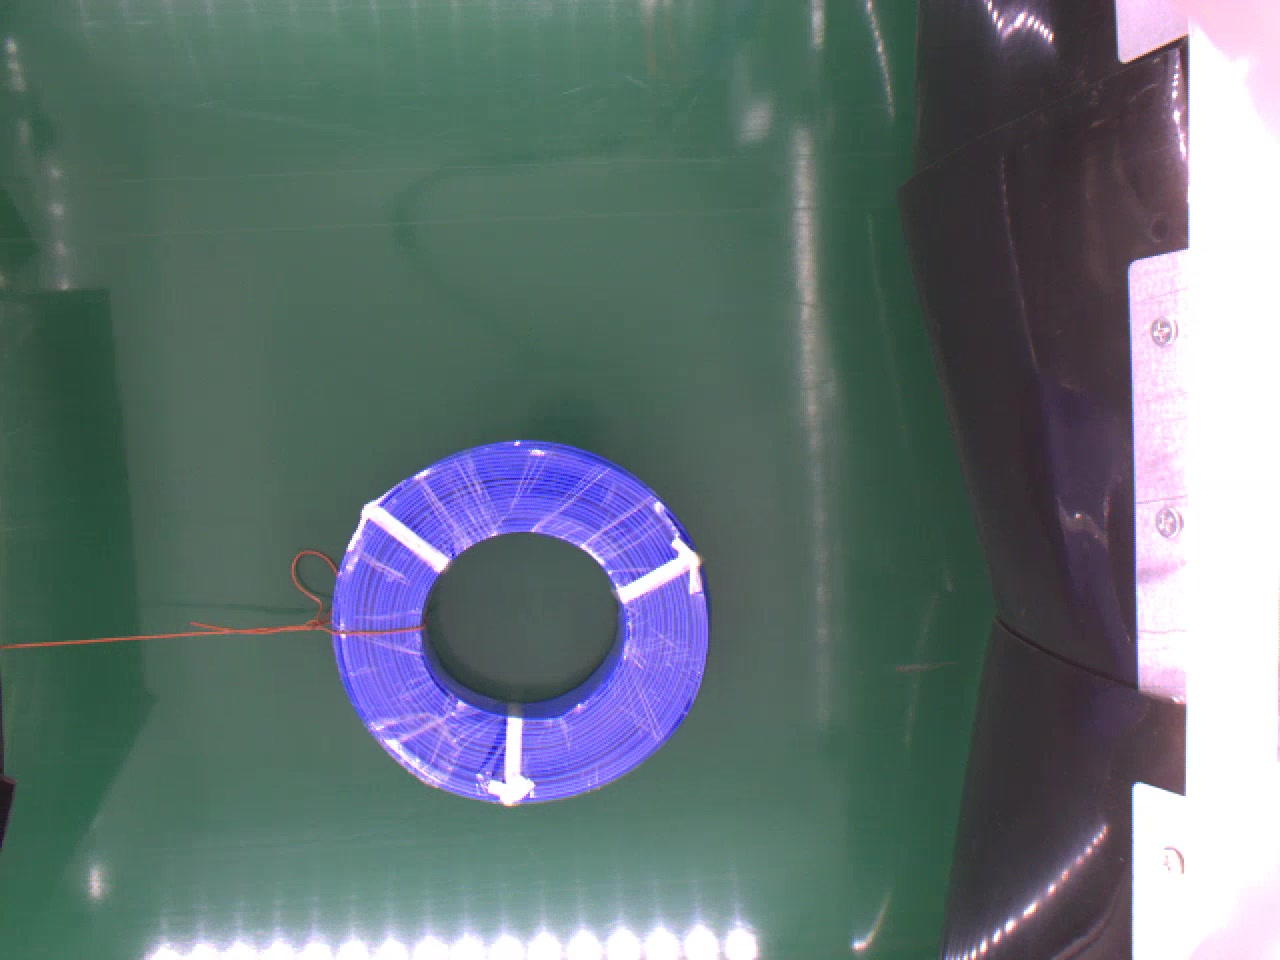blue: (334, 439, 728, 810)
